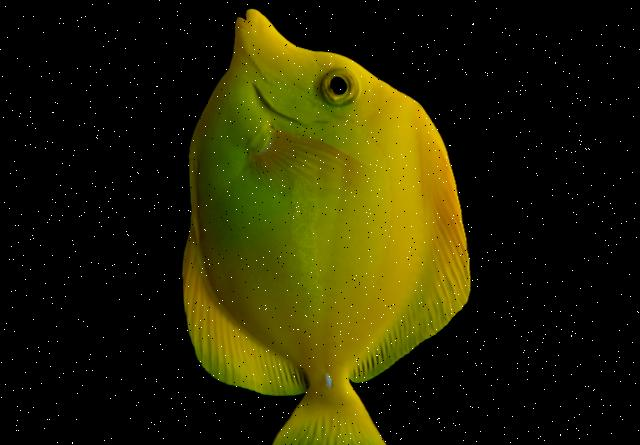Mulut: (209, 0, 294, 50)
Sirip Anal: (168, 231, 321, 398)
Sirip Dada: (222, 104, 387, 216)
Sirip Ekor: (253, 380, 399, 445)
Sirip Perut: (162, 122, 214, 238)
Sirip Punggung: (341, 130, 482, 393)
